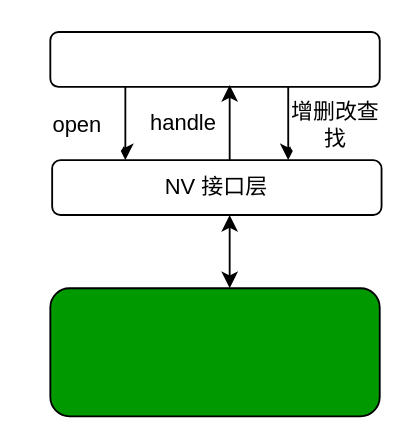
Image size: 414x448. Some labels were removed from this diagram. The shapes that lost their labels are listed below. From the top down, each one's centre as x and y in pixels, then its label:
[214,58]: 应用和其他组件
[214,351]: NV 管理 (在目前基础上改进）： 1. 维护各个组件的NV位置索引表，快速定位 2. NV加密和解密支持
